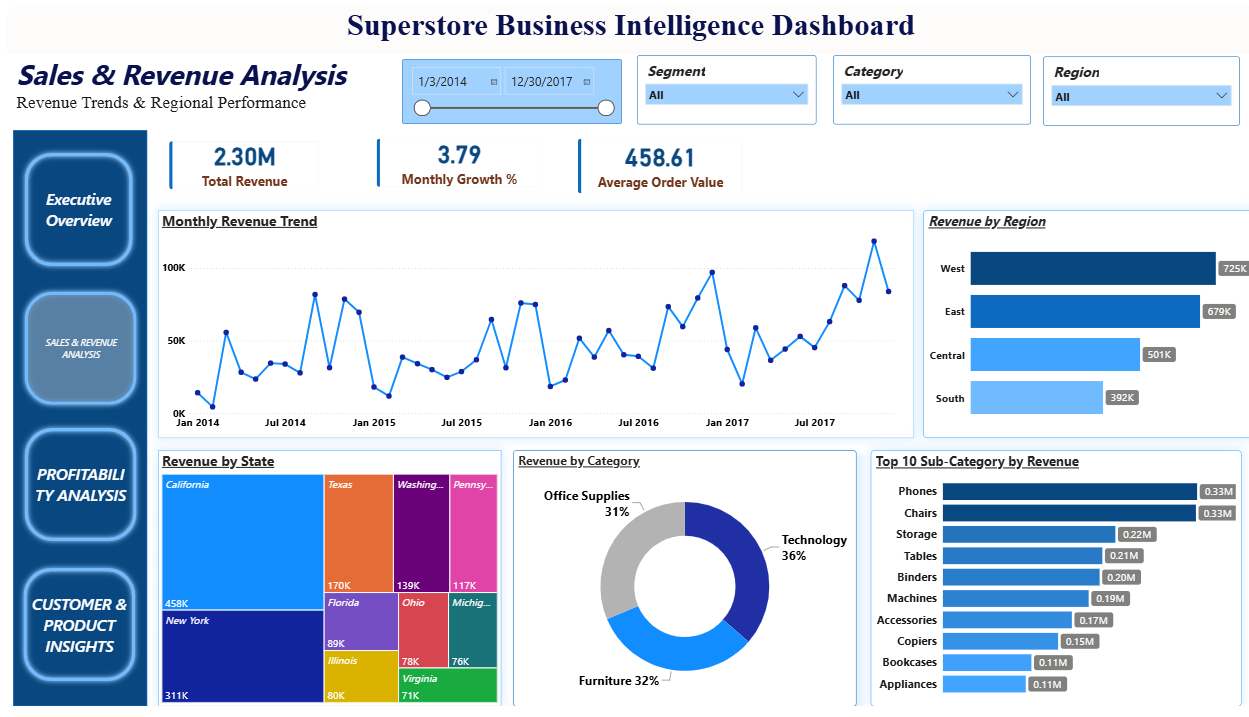

The page's visual inventory and layout, read from the dashboard file:
{"tool":"powerbi","page":{"name":"SALES & REVENUE ANALYSIS","canvas":[1920,1080],"ordinal":1},"visuals":[{"type":"cardVisual","fields":{"Data":["cleaned_data.Total Revenue"]},"box":[232,194,264,108],"z":0},{"type":"cardVisual","fields":{"Data":["cleaned_data.Average Order Value"]},"box":[862,190,286,118],"z":1000},{"type":"lineChart","title":"Monthly Revenue Trend","fields":{"Y":["cleaned_data.Total Revenue"],"Category":["cleaned_data.Month-Year.Variation.Date Hierarchy.Year","cleaned_data.Month-Year.Variation.Date Hierarchy.Month"]},"box":[232,318,1162,350],"z":2000},{"type":"clusteredBarChart","title":" Revenue by Region","fields":{"Category":["cleaned_data.Region"],"Y":["cleaned_data.Total Revenue"]},"box":[1410,318,510,350],"z":3000},{"type":"treemap","title":"Revenue by State","fields":{"Group":["cleaned_data.State"],"Values":["cleaned_data.Total Revenue"]},"box":[232,686,528,394],"z":4000},{"type":"donutChart","title":"Revenue by Category","fields":{"Category":["cleaned_data.Category"],"Y":["cleaned_data.Total Revenue"]},"box":[778,686,528,394],"z":5000},{"type":"clusteredBarChart","title":"Top 10 Sub-Category by Revenue ","fields":{"Category":["cleaned_data.Sub-Category"],"Y":["cleaned_data.Total Revenue"]},"box":[1328,686,570,394],"z":6000},{"type":"cardVisual","fields":{"Data":["cleaned_data.Monthly Growth %"]},"box":[552,190,286,108],"z":7000},{"type":"textbox","box":[10,68,612,112],"z":8000},{"type":"shape","box":[10,194,206,886],"z":9000},{"type":"pageNavigator","box":[18,860,188,190],"z":10000},{"type":"pageNavigator","box":[20,644,188,190],"z":11000},{"type":"pageNavigator","box":[20,434,188,190],"z":12000},{"type":"pageNavigator","box":[20,222,182,190],"z":13000},{"type":"shape","box":[0,0,1920,78],"z":14000},{"type":"slicer","fields":{"Values":["cleaned_data.Order Date"]},"box":[608,84,338,100],"z":15000},{"type":"slicer","fields":{"Values":["cleaned_data.Segment"]},"box":[970,78,276,106],"z":16000},{"type":"slicer","fields":{"Values":["cleaned_data.Category"]},"box":[1272,78,304,106],"z":17000},{"type":"slicer","fields":{"Values":["cleaned_data.Region"]},"box":[1594,80,302,106],"z":18000}]}

Visuals, with their boxes in screenshot pixels (x1, y1, x2, y2), scaled from the page's 1920x1080 canvas onto the 1249x717 screenshot:
cardVisual - cleaned_data.Total Revenue: [151,129,323,200]
cardVisual - cleaned_data.Average Order Value: [561,126,747,204]
"Monthly Revenue Trend" lineChart: [151,211,907,443]
" Revenue by Region" clusteredBarChart: [917,211,1248,443]
"Revenue by State" treemap: [151,455,494,716]
"Revenue by Category" donutChart: [506,455,850,716]
"Top 10 Sub-Category by Revenue " clusteredBarChart: [864,455,1235,716]
cardVisual - cleaned_data.Monthly Growth %: [359,126,545,198]
textbox: [7,45,405,120]
shape: [7,129,141,716]
pageNavigator: [12,571,134,697]
pageNavigator: [13,428,135,554]
pageNavigator: [13,288,135,414]
pageNavigator: [13,147,131,274]
shape: [0,0,1248,52]
slicer - cleaned_data.Order Date: [396,56,615,122]
slicer - cleaned_data.Segment: [631,52,811,122]
slicer - cleaned_data.Category: [827,52,1025,122]
slicer - cleaned_data.Region: [1037,53,1233,123]
